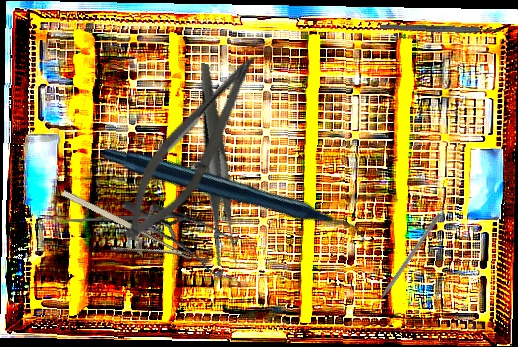Dressing Forceps: (161, 62, 276, 270)
Handpiece: (99, 56, 369, 339)
Micro Scissor: (108, 36, 271, 256)
Needle Holder: (50, 185, 192, 286)
Pusher: (368, 212, 442, 314)
Scalpel Handle: (379, 22, 502, 35)
Spatula Surgical: (63, 212, 188, 224)
Speculum: (121, 161, 253, 303)
